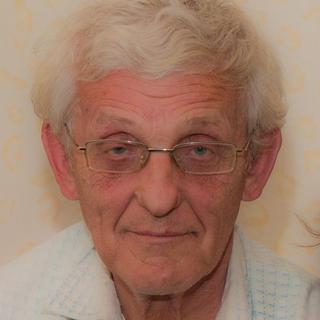eye: (178, 140, 223, 163), (99, 141, 145, 163)
